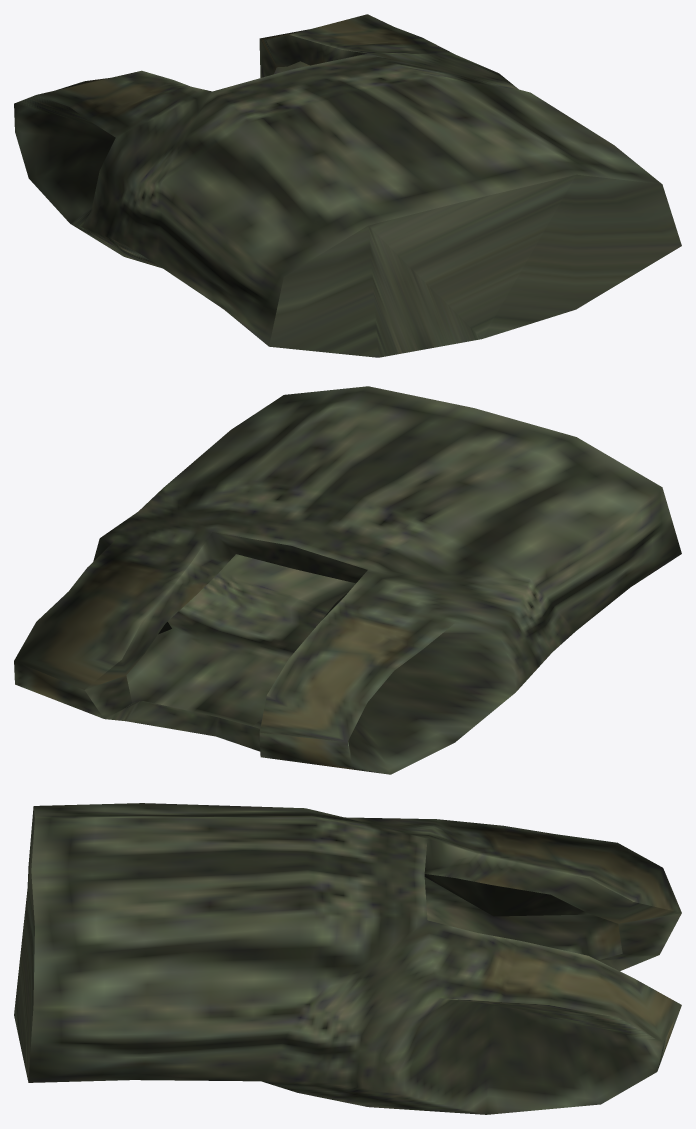
File: BerrilVestGround.fbx
3 renders of one model, top to bottom at view 1: azimuth 30°, elevation 25°; view 2: azimuth 150°, elevation 25°; view 3: azimuth 270°, elevation 25°, orthographic. The views are drawn at different scales.
Parts seen in each view (by area): view 1: BerrilVestGround; view 2: BerrilVestGround; view 3: BerrilVestGround.
Boxes of the visible parts, x1,y1,x2,y2 form: BerrilVestGround: (14, 14, 681, 357); BerrilVestGround: (14, 386, 681, 774); BerrilVestGround: (14, 803, 681, 1114).
Bounding box in the file's own units: 0.2285 × 0.0845 × 0.283.
